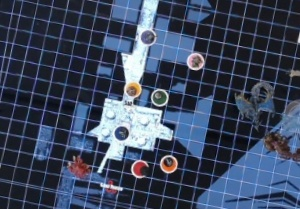blue: (110, 123, 130, 142)
green: (148, 84, 170, 107)
orange: (155, 150, 180, 175)
pink: (184, 50, 205, 71)
red: (127, 154, 151, 178)
violet: (137, 28, 159, 48)
yellow: (121, 77, 144, 100)
